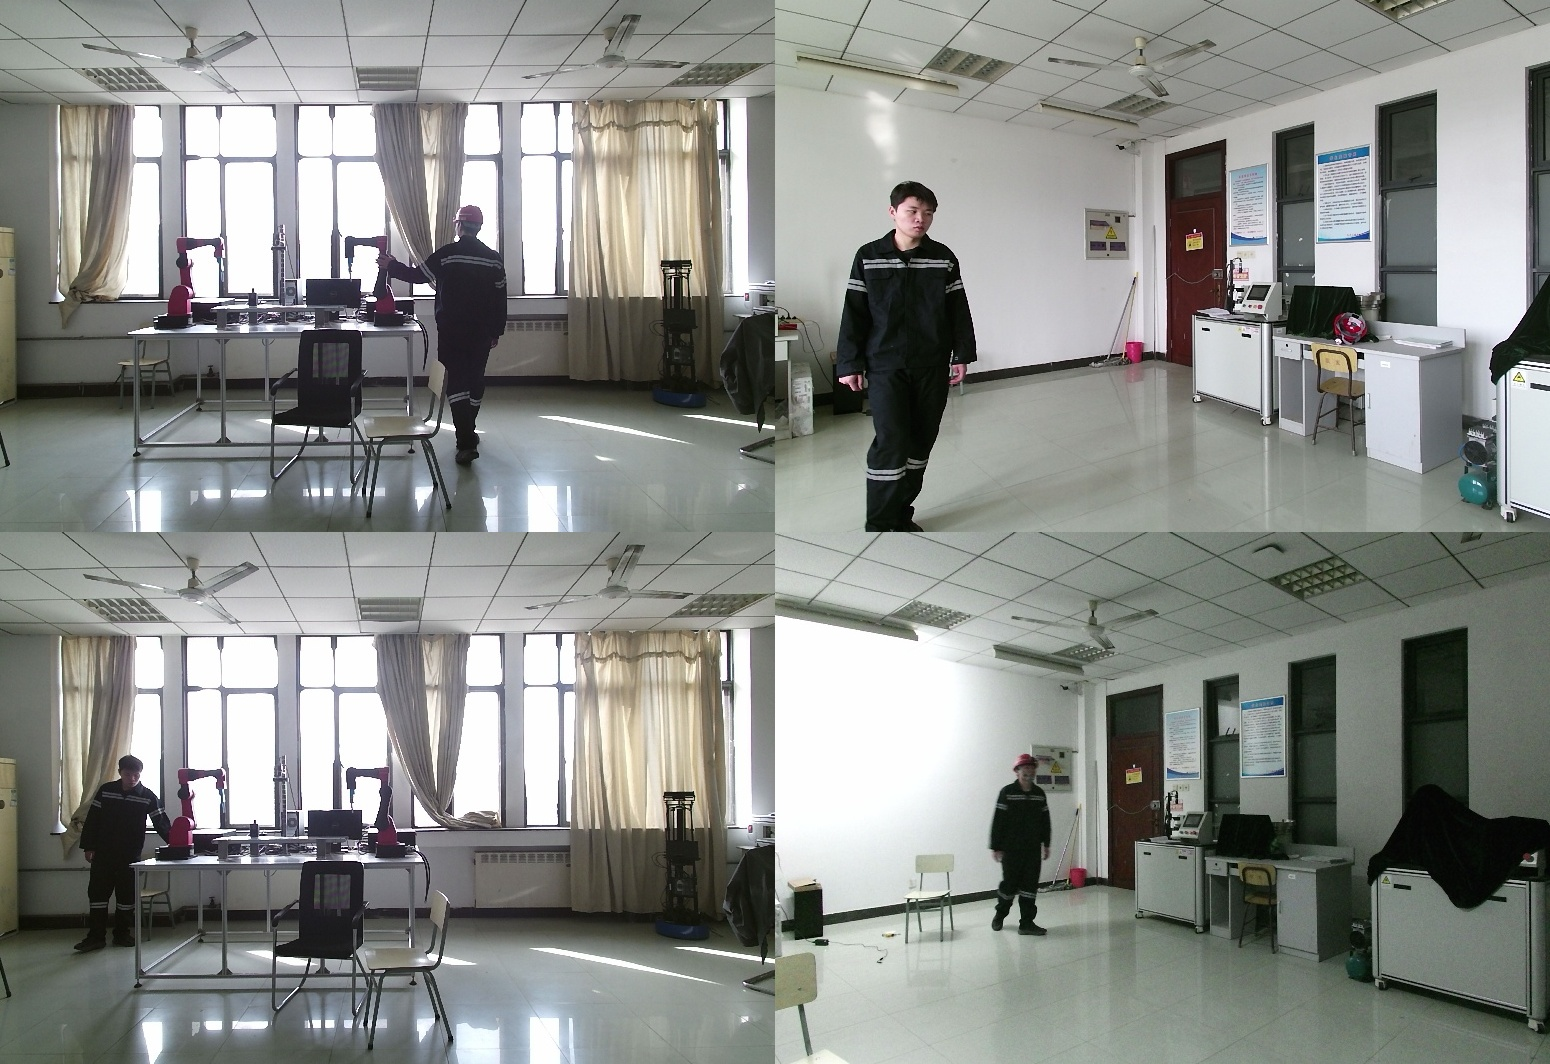person: (833, 183, 974, 532), (379, 204, 520, 471), (72, 758, 168, 951), (980, 756, 1045, 948)
